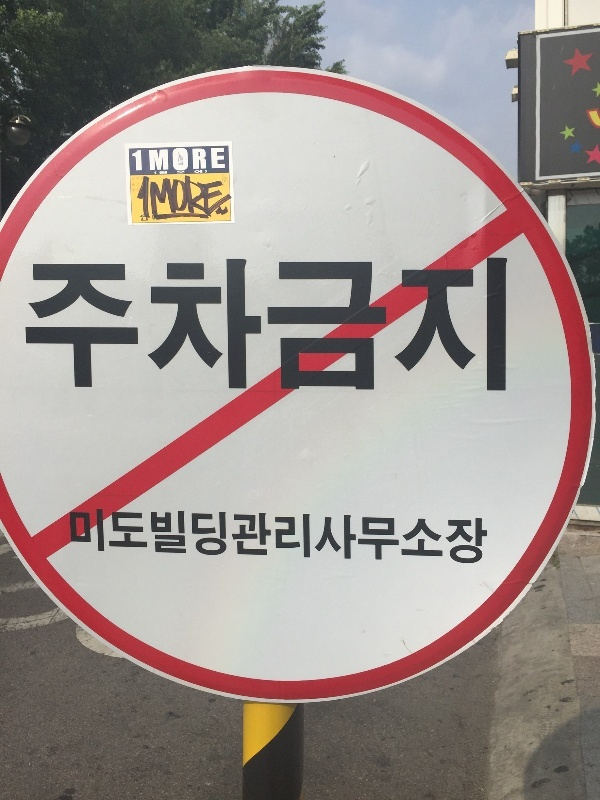text: (273, 255, 288, 402), (289, 255, 304, 402), (305, 255, 320, 402), (321, 255, 336, 402), (337, 255, 352, 402), (353, 255, 368, 402), (369, 255, 384, 402), (385, 255, 400, 402), (401, 255, 416, 402), (417, 255, 432, 402), (433, 255, 448, 402), (449, 255, 464, 402), (465, 255, 480, 402), (481, 255, 496, 402), (33, 255, 48, 399), (49, 255, 64, 399), (65, 255, 80, 399), (81, 255, 96, 399), (97, 255, 112, 399), (113, 255, 128, 399), (129, 255, 144, 399), (145, 255, 160, 399), (161, 255, 176, 399), (177, 255, 192, 399), (193, 255, 208, 399), (209, 255, 224, 399), (225, 255, 240, 399), (241, 255, 256, 399), (497, 255, 511, 402), (20, 255, 32, 399), (265, 255, 272, 402), (81, 506, 96, 570), (97, 506, 112, 570), (113, 506, 128, 570), (129, 506, 144, 570), (145, 506, 160, 570), (161, 506, 176, 570), (177, 506, 192, 570), (193, 506, 208, 570), (209, 506, 224, 570), (225, 506, 240, 570), (241, 506, 256, 570), (257, 506, 272, 570), (273, 506, 288, 570), (289, 506, 304, 570), (305, 506, 320, 570), (321, 506, 336, 570), (337, 506, 352, 570), (353, 506, 368, 570), (369, 506, 384, 570), (385, 506, 400, 570), (401, 506, 416, 570), (417, 506, 432, 570), (433, 506, 448, 570), (449, 506, 464, 570), (465, 506, 480, 570), (257, 255, 263, 399), (68, 506, 80, 570), (145, 175, 160, 220), (161, 175, 176, 220), (177, 175, 192, 220), (193, 175, 208, 220), (209, 175, 224, 220), (225, 175, 240, 220), (481, 506, 490, 570), (145, 146, 160, 174), (161, 146, 176, 174), (177, 146, 192, 174), (193, 146, 208, 174), (209, 146, 224, 174), (131, 146, 144, 174), (136, 175, 144, 220), (241, 175, 243, 220), (225, 146, 227, 174)
